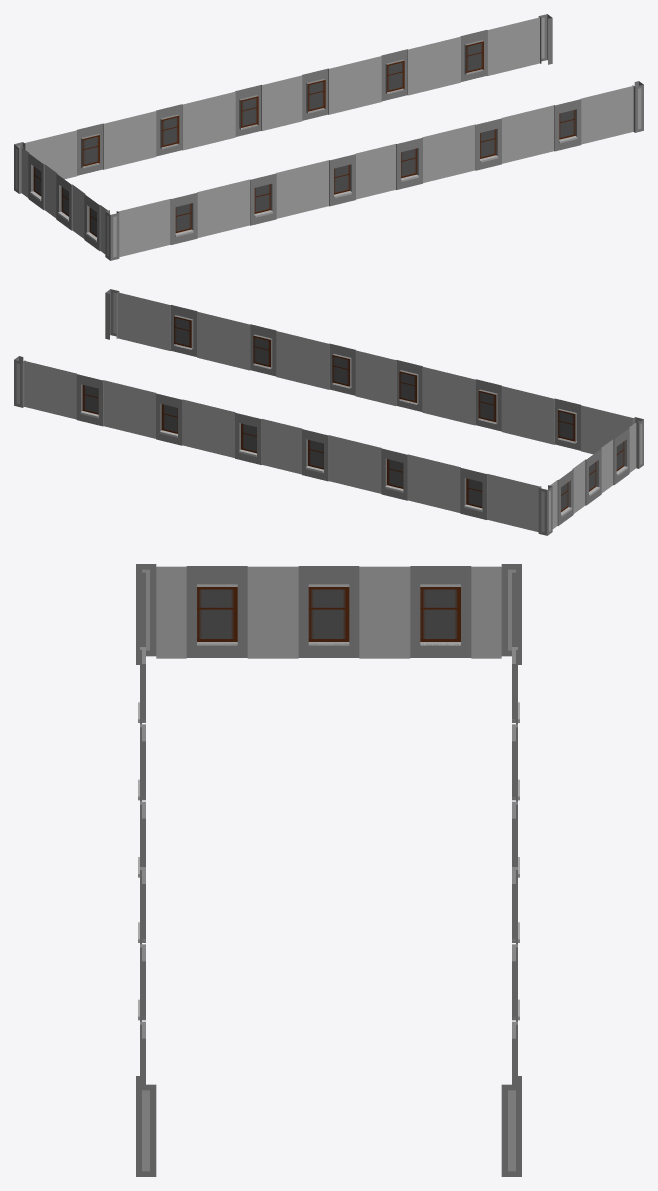
Rendered from BuildingSmall4_3.fbx.
3 renders of one model, top to bottom at view 1: azimuth 30°, elevation 25°; view 2: azimuth 150°, elevation 25°; view 3: azimuth 270°, elevation 25°, orthographic. The views are drawn at different scales.
Visible parts, largest first — view 1: BuildingSmall4_3; view 2: BuildingSmall4_3; view 3: BuildingSmall4_3.
Part boxes in pixels (left/top/right/bottom): BuildingSmall4_3: left=14, top=14, right=643, bottom=260; BuildingSmall4_3: left=14, top=289, right=643, bottom=535; BuildingSmall4_3: left=136, top=564, right=521, bottom=1176.
Size of the model in its own units: 6060 by 500 by 1900.
